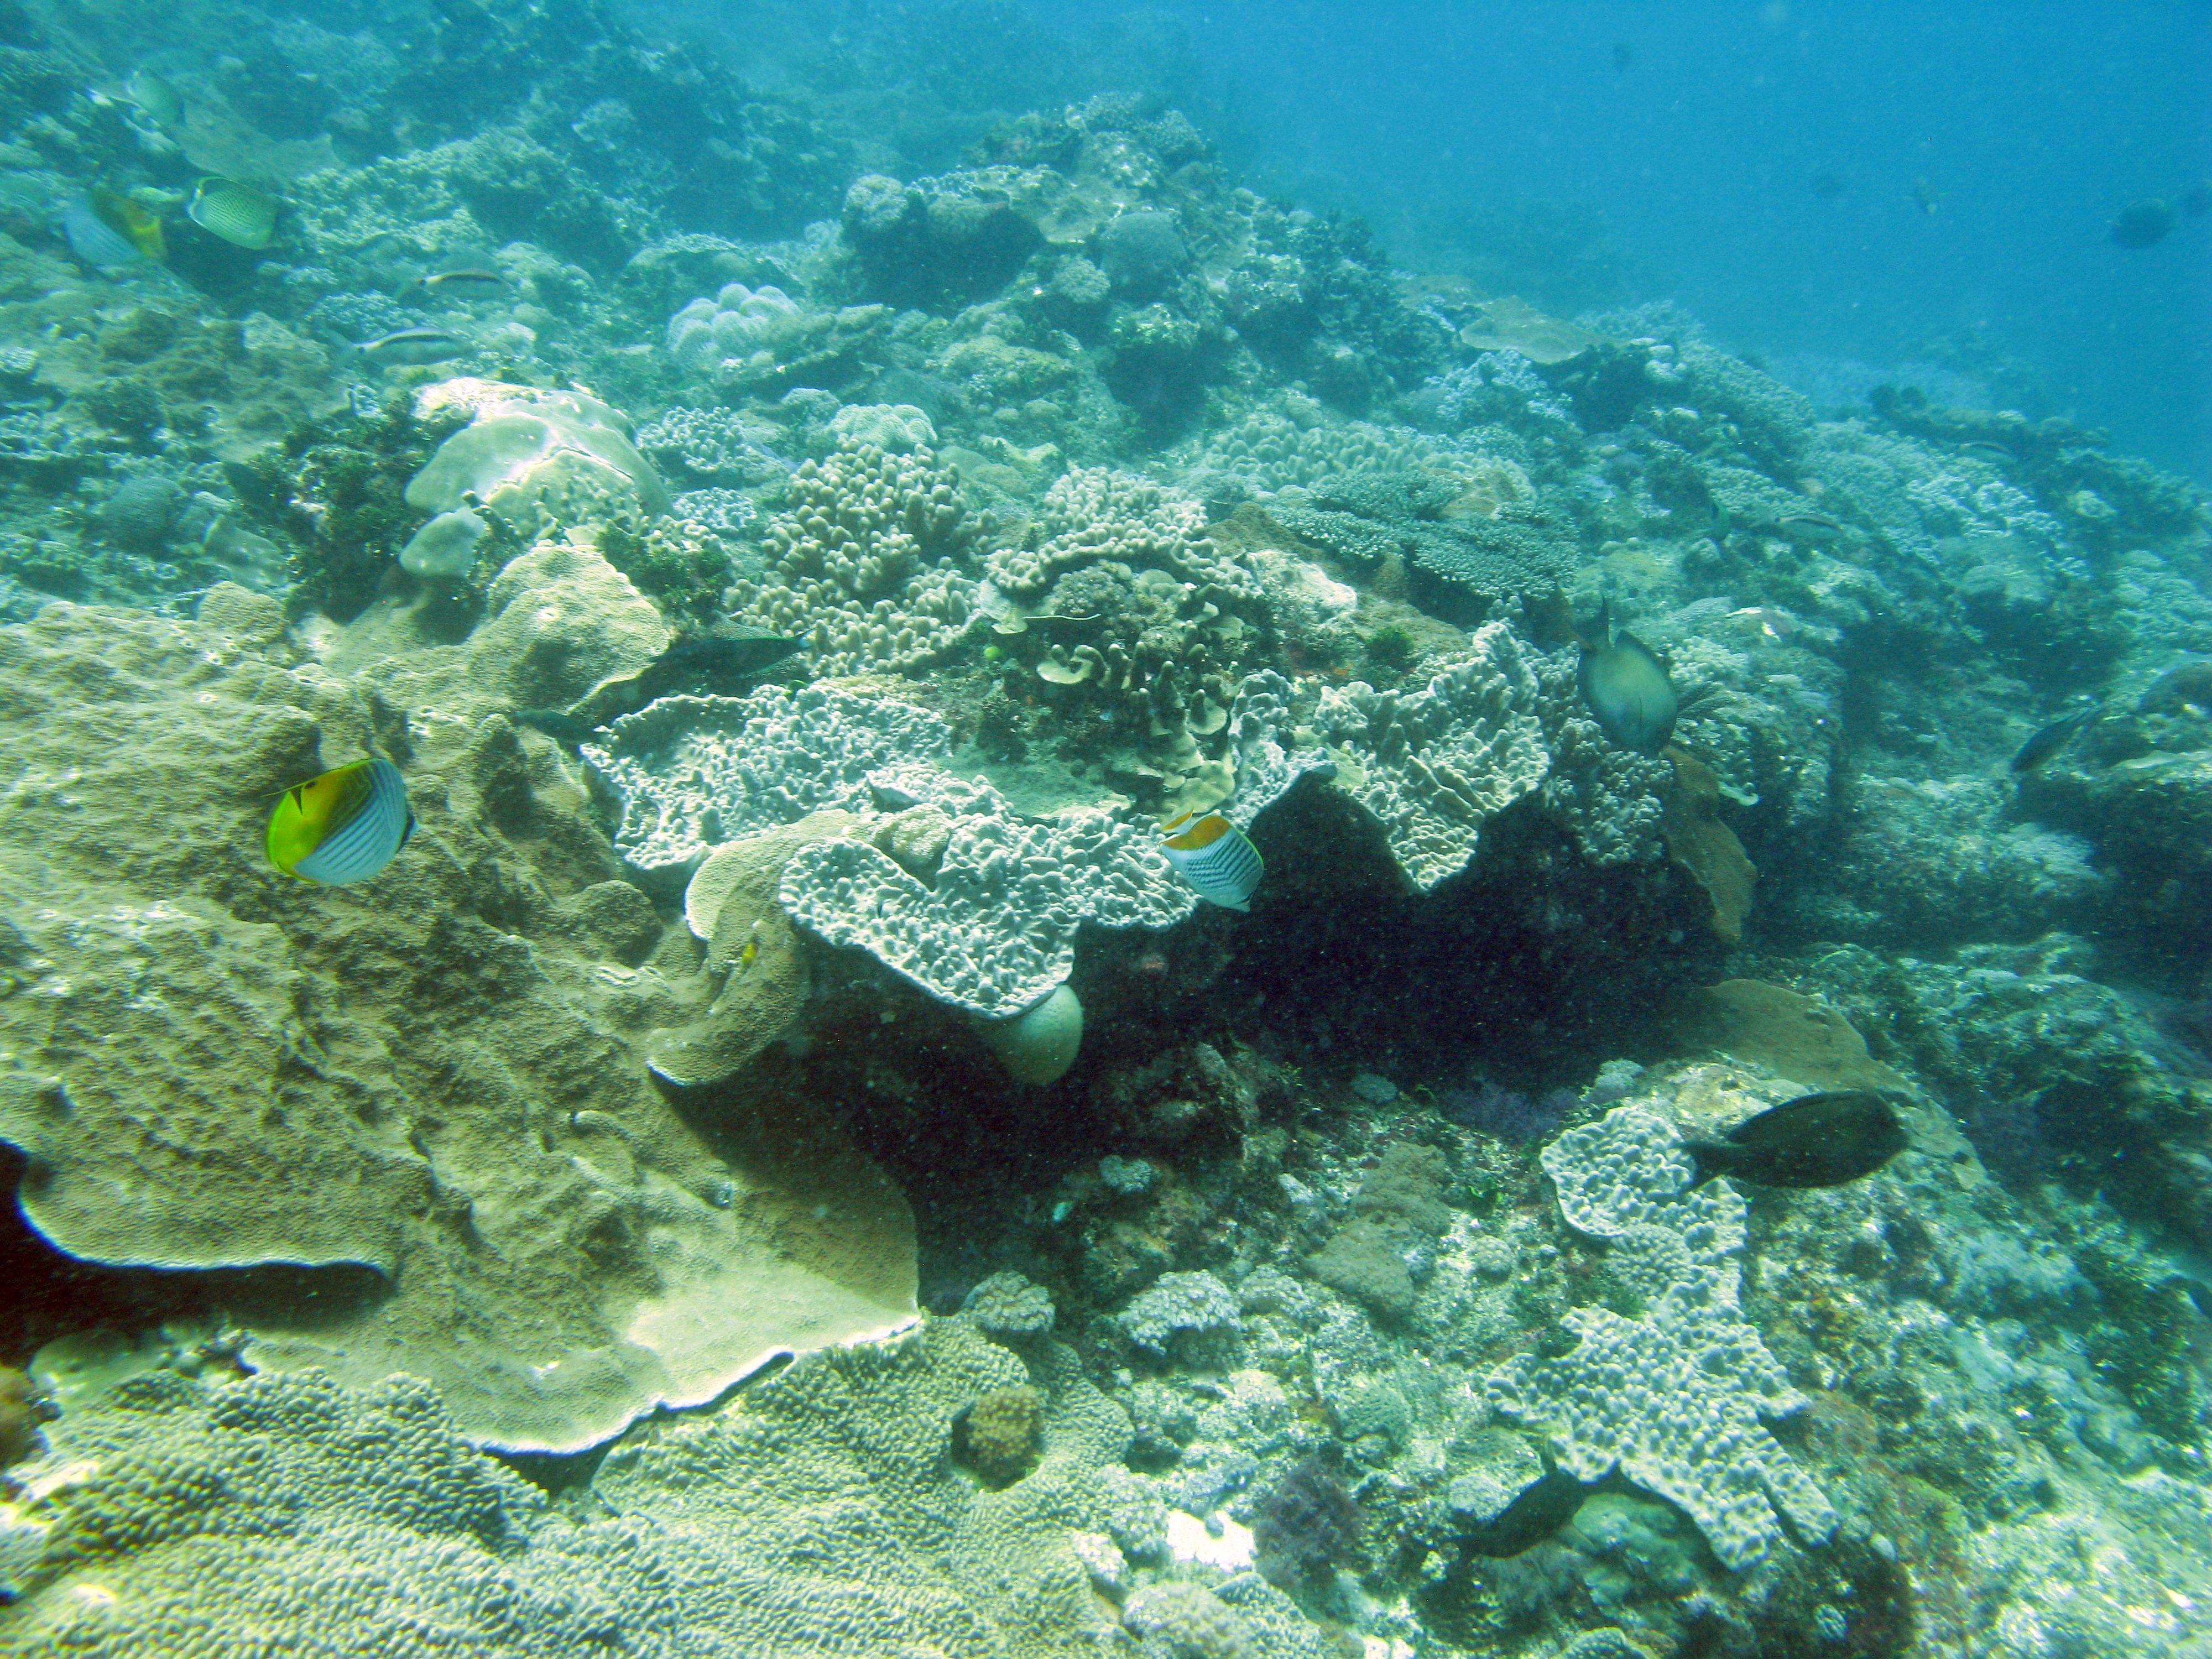Fish: (202, 680, 479, 965), (1132, 782, 1318, 979)
